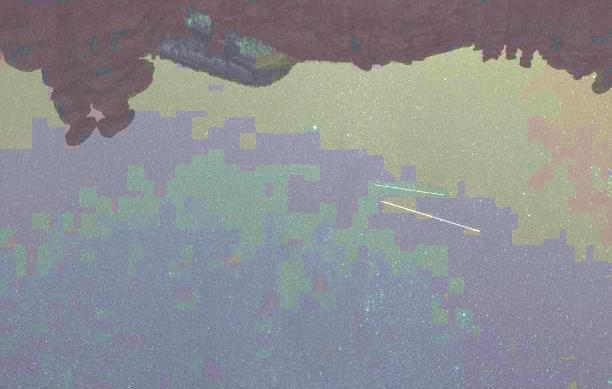meteorite: (346, 167, 452, 205), (399, 204, 486, 237)
